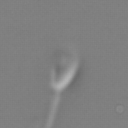normal: (38, 91, 66, 128)
